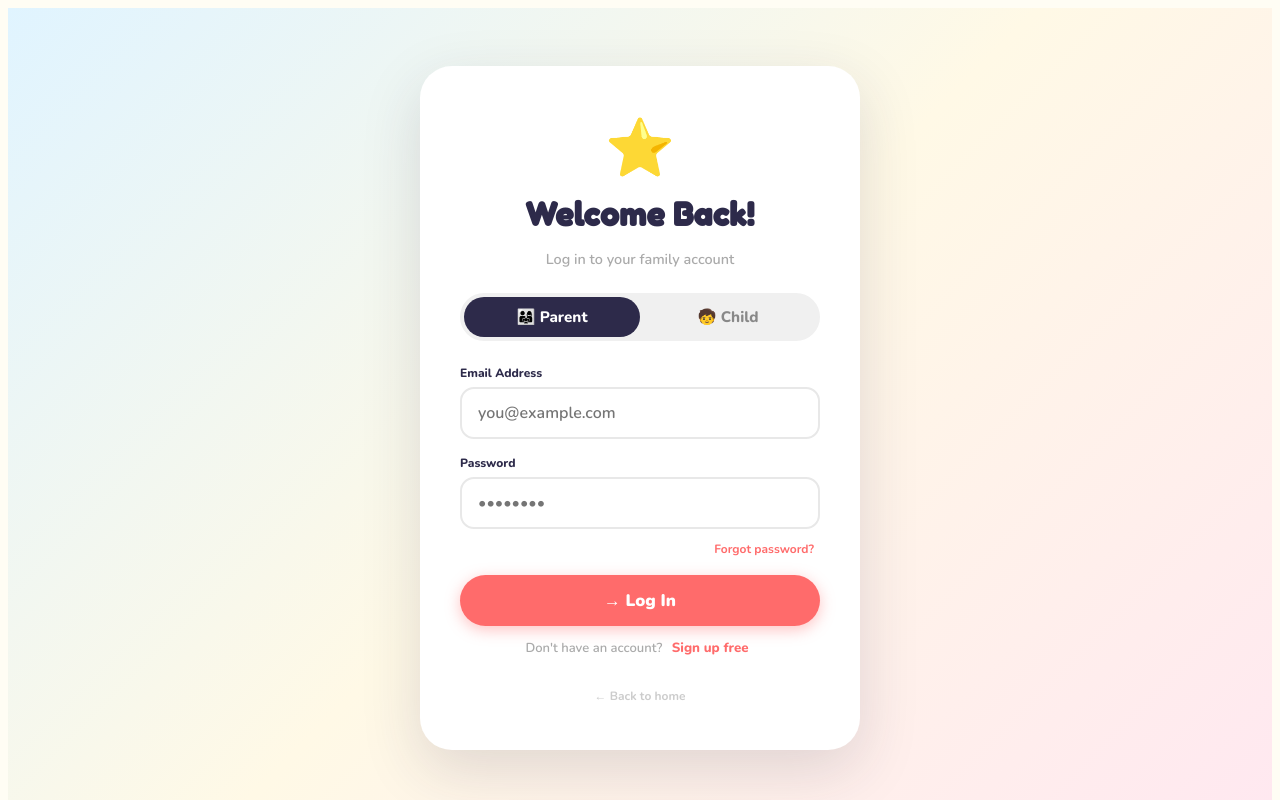
Test: 🧒 Auth Screen — Kid PIN Login › shows error when child submits without name
The image size is (1280, 800).
Click the button "🧒 Child": (728, 317) [640,297,816,337]
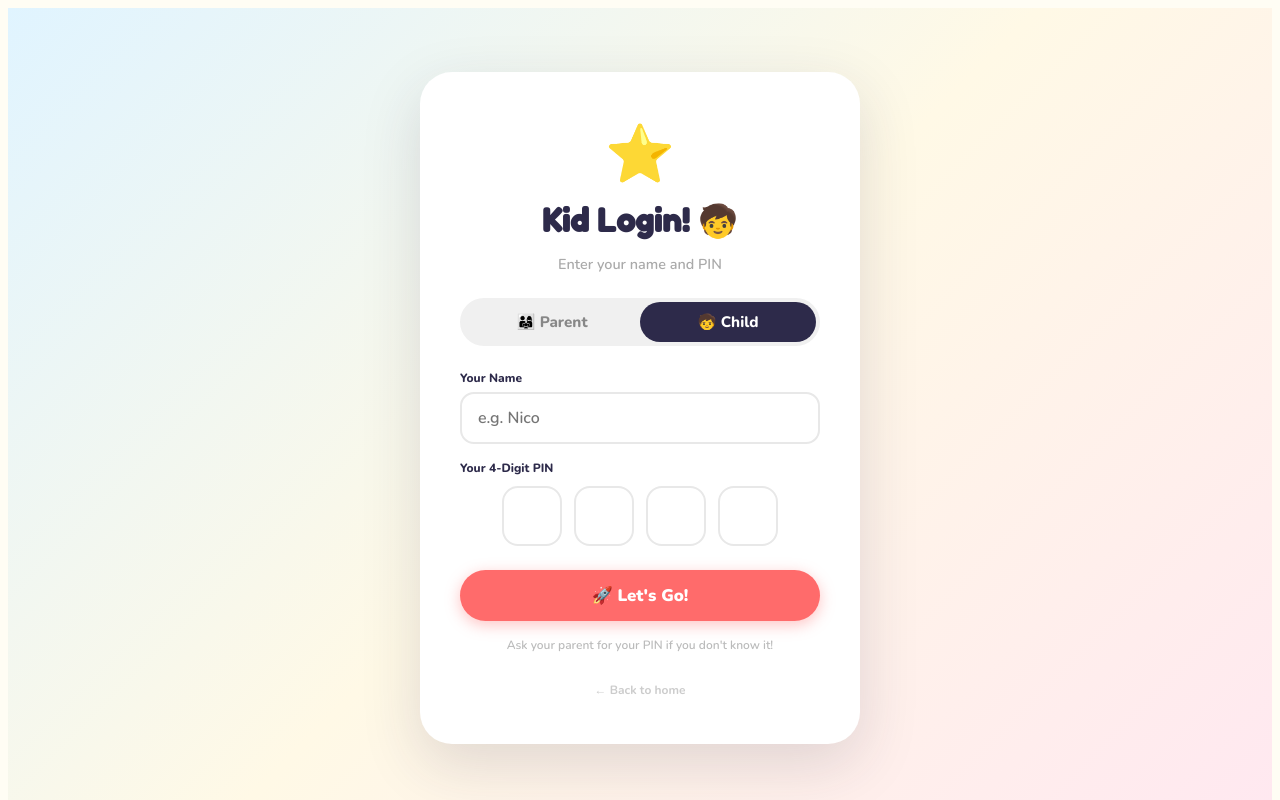
Click the button "🚀 Let's Go!": (640, 596) [460,570,820,621]
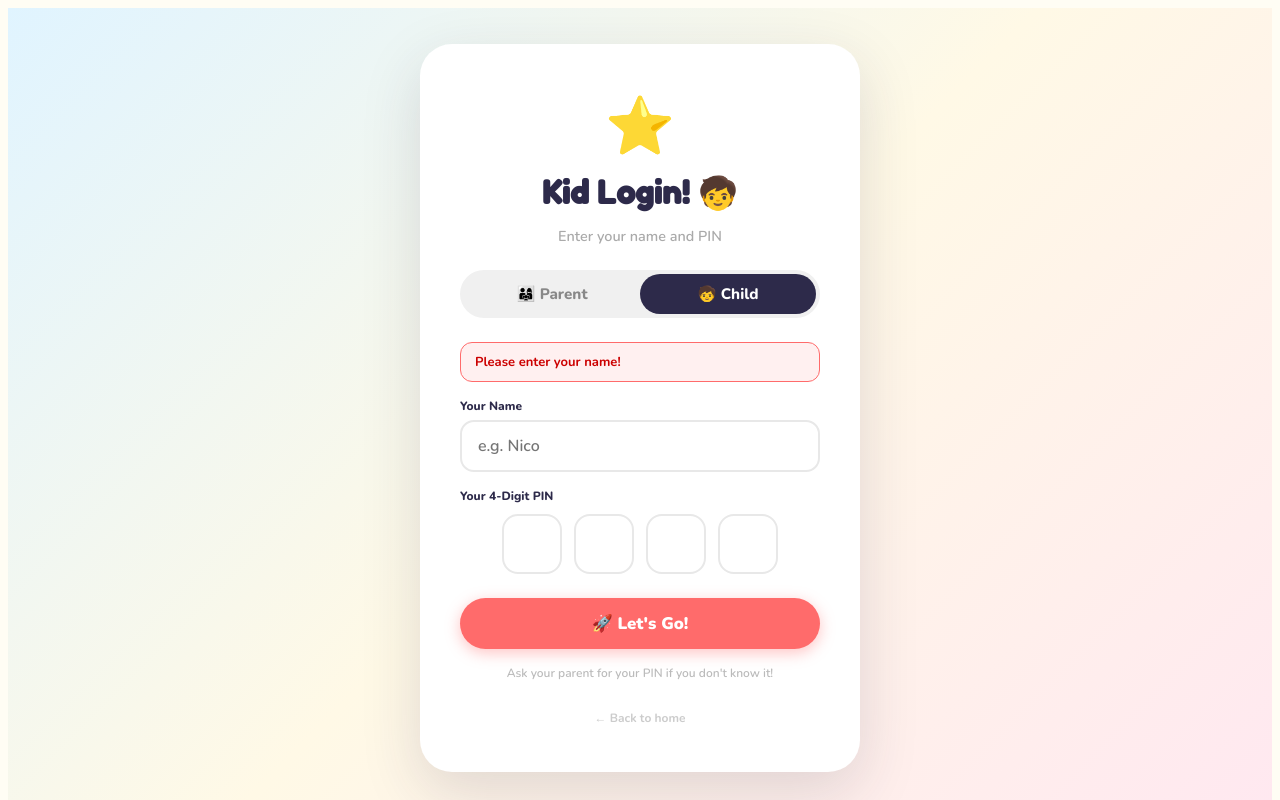
Check: the text "Please enter your name!" is shown, box [460,342,820,382]
